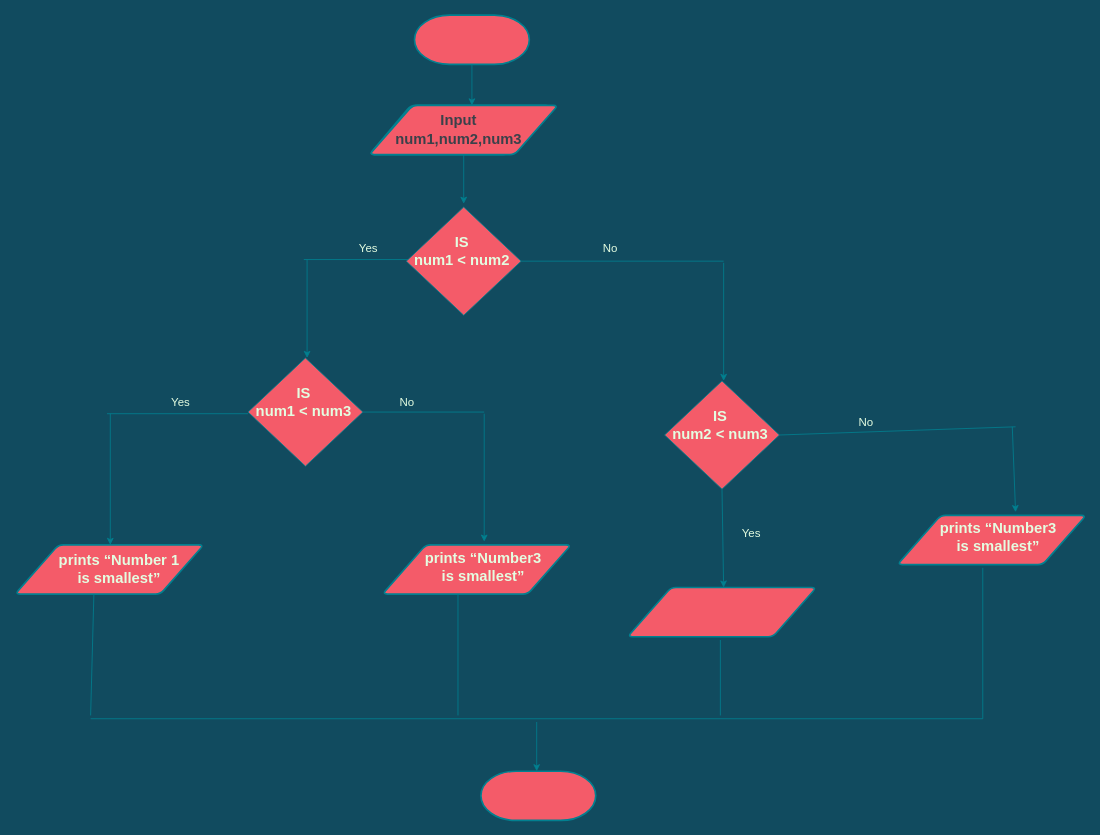
This 1100x835 diagram has some shape labels left out. Each missing label, with the centre of its shape:
"End" belongs at point (538, 795).
"prints “Number2 is smallest”" belongs at point (721, 611).
"Start" belongs at point (471, 39).
